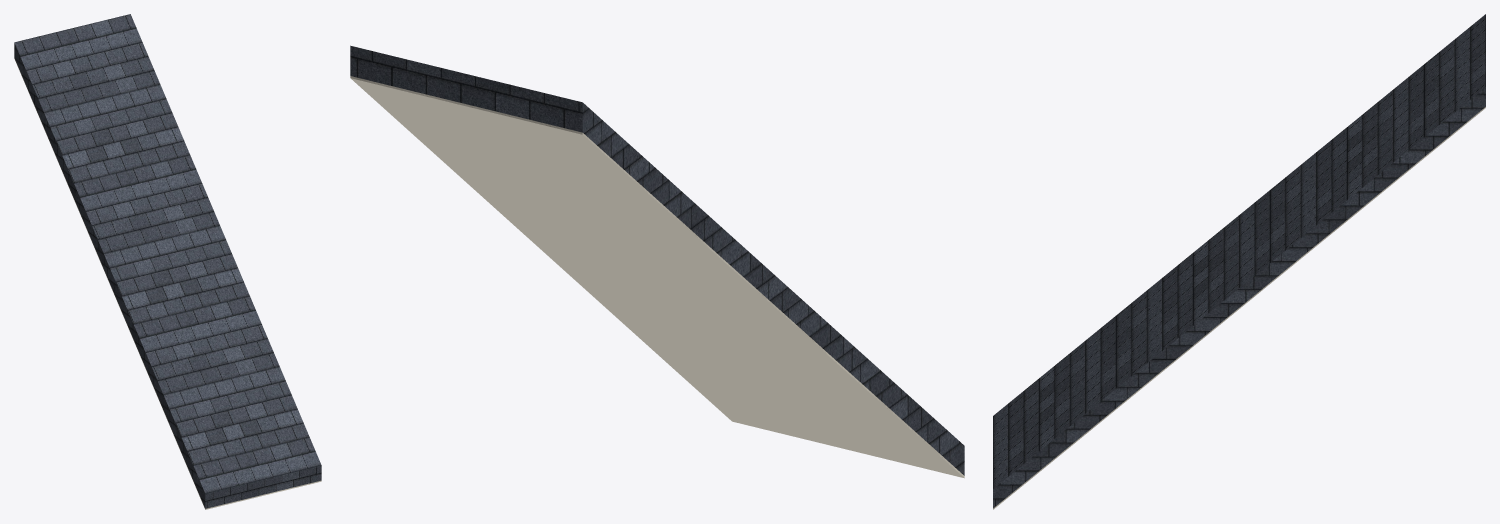
File: nave_slope_tower.glb
The picture shows the model from 3 angles, left to right: view 1: azimuth 30°, elevation 25°; view 2: azimuth 150°, elevation 25°; view 3: azimuth 270°, elevation 25°; orthographic projection. The views are drawn at different scales.
Visible parts, largest first — view 1: nave_slope_tower_shingle, nave_slope_tower_plaster; view 2: nave_slope_tower_plaster, nave_slope_tower_shingle; view 3: nave_slope_tower_shingle, nave_slope_tower_plaster.
Boxes of the visible parts, left/top/right/bottom form: nave_slope_tower_shingle: left=14, top=14, right=321, bottom=508; nave_slope_tower_plaster: left=14, top=58, right=321, bottom=509; nave_slope_tower_plaster: left=350, top=76, right=964, bottom=478; nave_slope_tower_shingle: left=350, top=45, right=964, bottom=475; nave_slope_tower_shingle: left=993, top=14, right=1485, bottom=508; nave_slope_tower_plaster: left=993, top=107, right=1485, bottom=509.
Size of the model in its own units: 2.25 by 6.06 by 6.4.
Materials: 2 (2 with a texture image).
